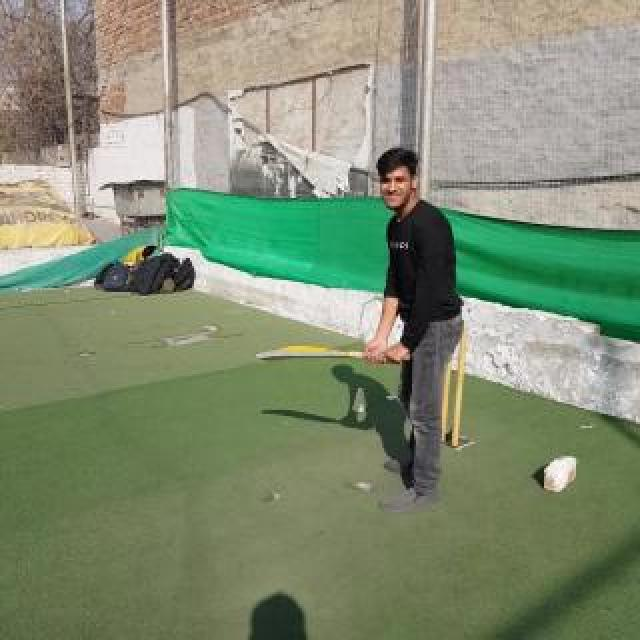bat: (256, 345, 410, 361)
